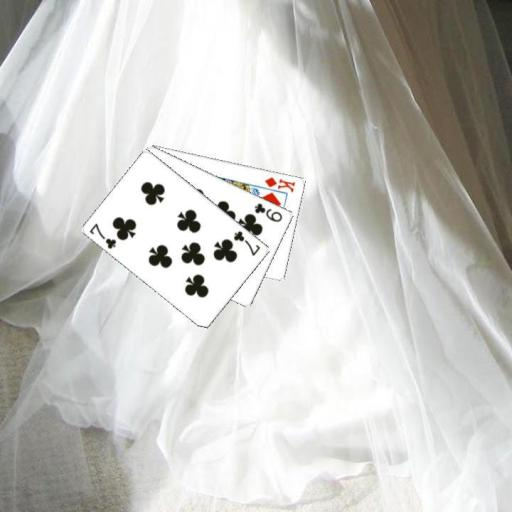7C: (230, 228, 262, 258), (87, 220, 118, 250)
9C: (251, 200, 284, 223)
KD: (262, 174, 297, 194)
